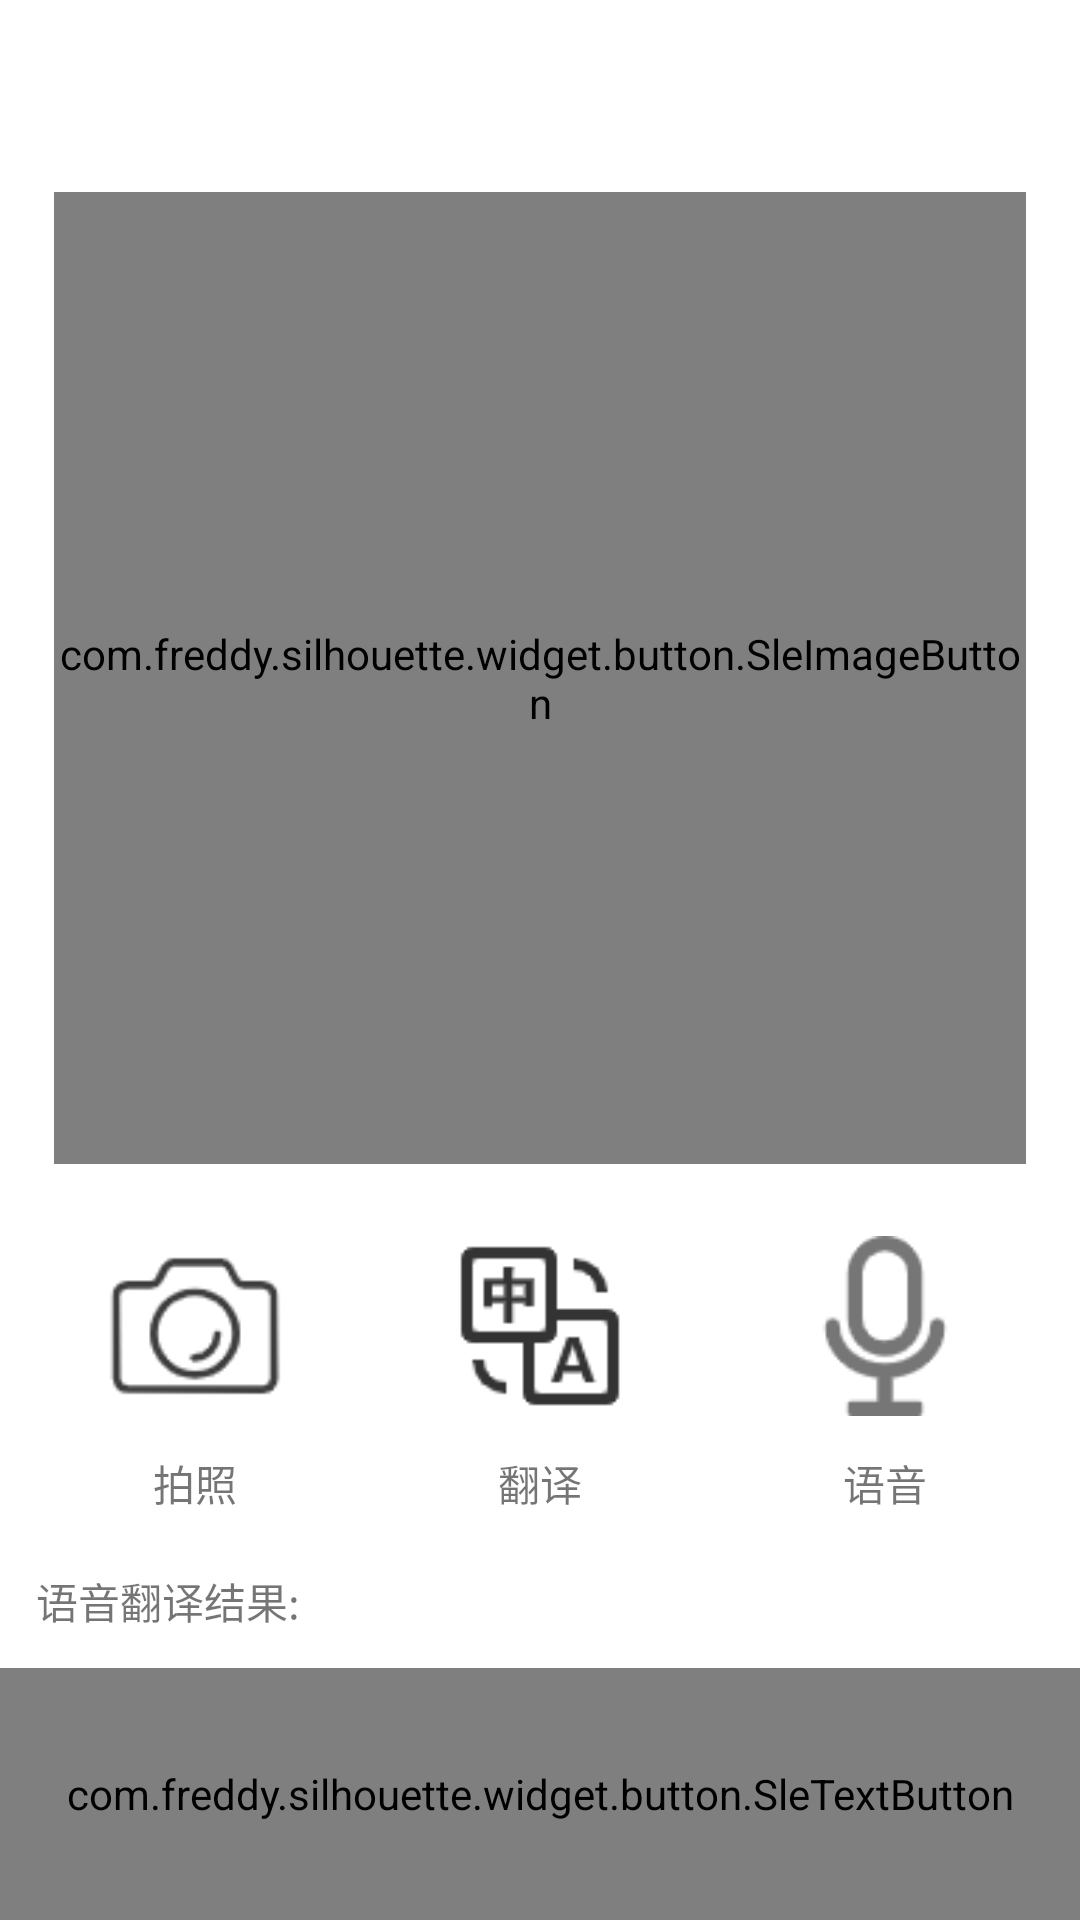

Locate icon controls on the screen. Image size 1080*1920, boxes as bbox=[x1, y1, x2, y2].
translate: bbox=[460, 1246, 620, 1406]
